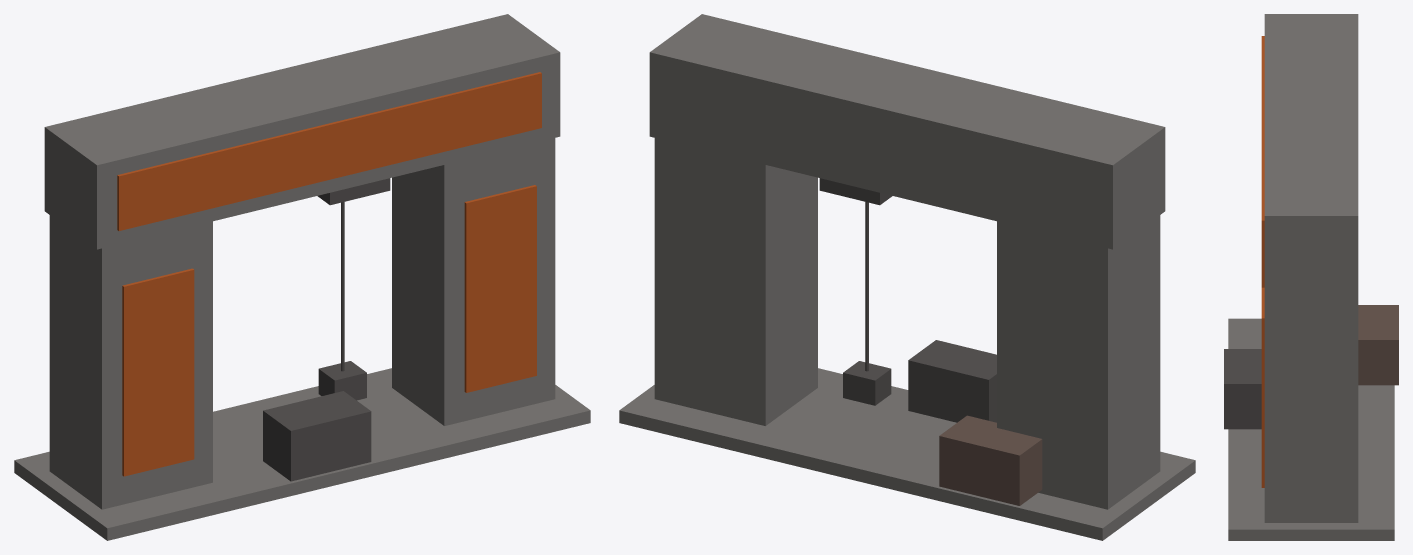
Rendered from dock_crane_script.glb.
The picture shows the model from 3 angles, left to right: view 1: azimuth 30°, elevation 25°; view 2: azimuth 150°, elevation 25°; view 3: azimuth 270°, elevation 25°; orthographic projection. The views are drawn at different scales.
Visible parts, largest first — view 1: Cube.005, Cube.001, Cube.003, Cube, Cube.006, Cube.004, Cube.002, Cube.010, Cube.008, Cube.007, Cylinder; view 2: Cube.005, Cube.003, Cube.001, Cube, Cube.009, Cube.010, Cube.008, Cube.007, Cylinder; view 3: Cube.005, Cube.003, Cube, Cube.009, Cube.010, Cube.006, Cube.004.
Part boxes in pixels (x1=…): Cube.005: x1=44, y1=14, x2=560, y2=249; Cube.001: x1=49, y1=215, x2=212, y2=509; Cube.003: x1=392, y1=138, x2=555, y2=425; Cube: x1=14, y1=368, x2=590, y2=540; Cube.006: x1=117, y1=72, x2=541, y2=230; Cube.004: x1=464, y1=185, x2=536, y2=392; Cube.002: x1=122, y1=268, x2=194, y2=476; Cube.010: x1=263, y1=391, x2=371, y2=481; Cube.008: x1=318, y1=361, x2=366, y2=400; Cube.007: x1=317, y1=178, x2=390, y2=205; Cylinder: x1=341, y1=202, x2=344, y2=371; Cube.005: x1=649, y1=14, x2=1165, y2=249; Cube.003: x1=654, y1=138, x2=817, y2=425; Cube.001: x1=997, y1=215, x2=1160, y2=509; Cube: x1=619, y1=368, x2=1195, y2=540; Cube.009: x1=939, y1=415, x2=1042, y2=505; Cube.010: x1=908, y1=340, x2=996, y2=422; Cube.008: x1=843, y1=361, x2=891, y2=405; Cube.007: x1=819, y1=178, x2=892, y2=205; Cylinder: x1=865, y1=202, x2=868, y2=371; Cube.005: x1=1264, y1=14, x2=1358, y2=291; Cube.003: x1=1264, y1=291, x2=1358, y2=522; Cube: x1=1228, y1=318, x2=1394, y2=540; Cube.009: x1=1358, y1=305, x2=1398, y2=385; Cube.010: x1=1224, y1=349, x2=1261, y2=429; Cube.006: x1=1261, y1=36, x2=1264, y2=269; Cube.004: x1=1261, y1=287, x2=1264, y2=487.
Size of the model in its own units: 24 by 17 by 8.4.
